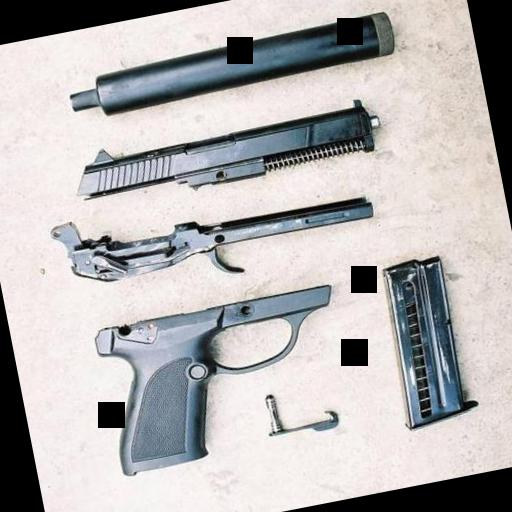Handgun: (78, 194, 412, 478)
